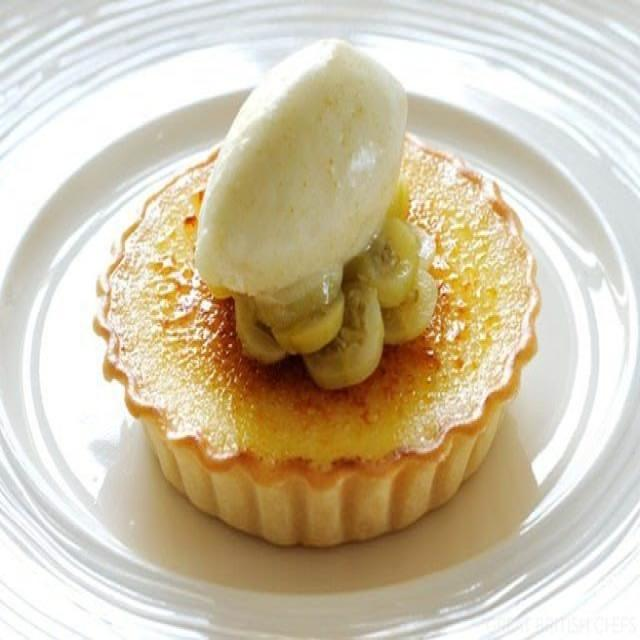炸货点心: (36, 29, 605, 592)
蛋糕甜品: (36, 29, 605, 592)
